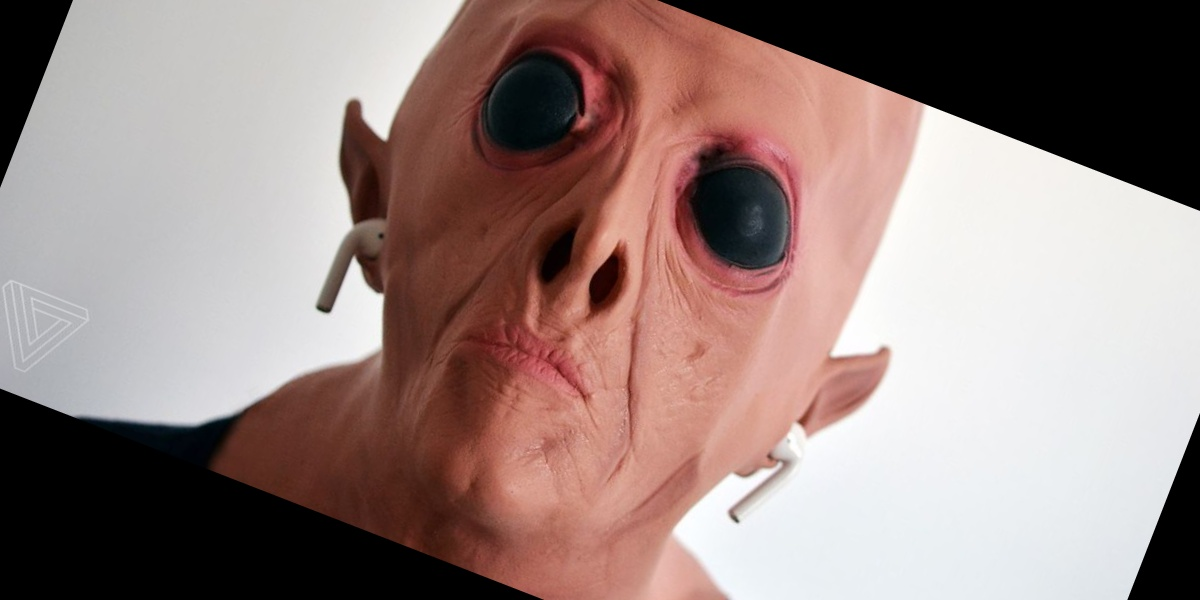earphone: (277, 99, 428, 316), (733, 314, 891, 510)
